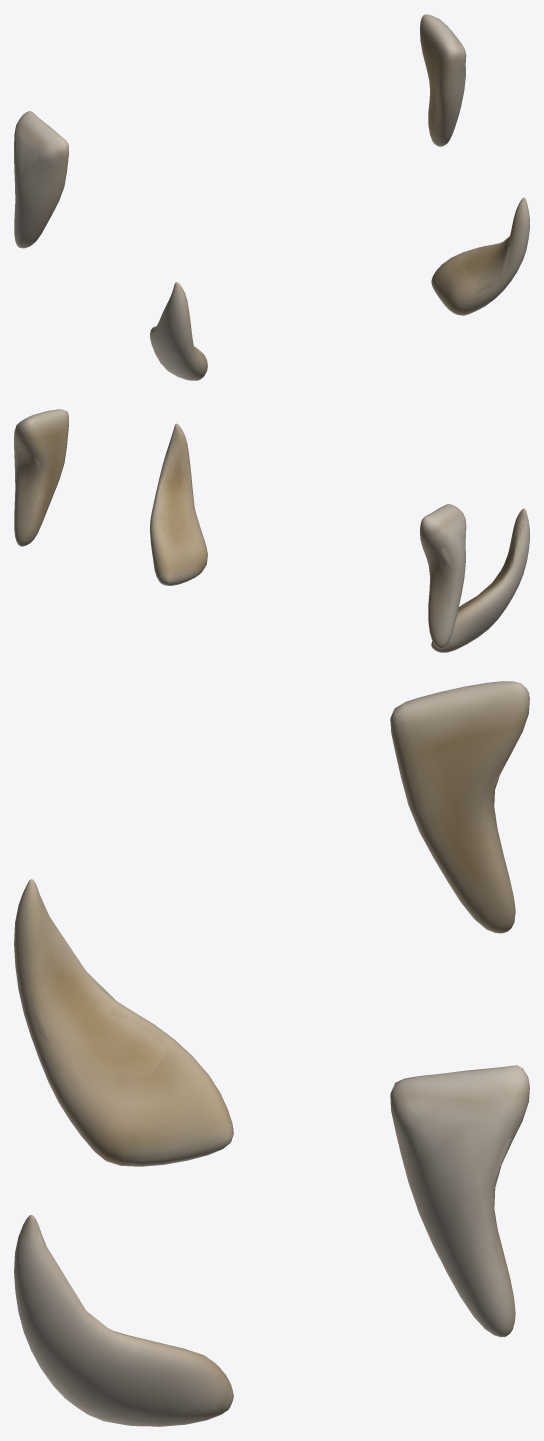
Rendered from Teeth Canini.fbx.
The picture shows the model from 3 angles, top to bottom: view 1: azimuth 30°, elevation 25°; view 2: azimuth 150°, elevation 25°; view 3: azimuth 270°, elevation 25°; orthographic projection. The views are drawn at different scales.
Parts seen in each view (by area): view 1: Teeth Canini, Teeth Canini low; view 2: Teeth Canini, Teeth Canini low; view 3: Teeth Canini, Teeth Canini low.
Boxes of the visible parts, x1,y1,x2,y2 form: Teeth Canini: (14,14,529,380); Teeth Canini low: (15,34,511,355); Teeth Canini: (14,409,529,652); Teeth Canini low: (15,410,524,610); Teeth Canini: (14,681,529,1426); Teeth Canini low: (30,692,525,1340).
Size of the model in its own units: 6.4 by 2.9 by 3.24.
1 material, 1 textured.
